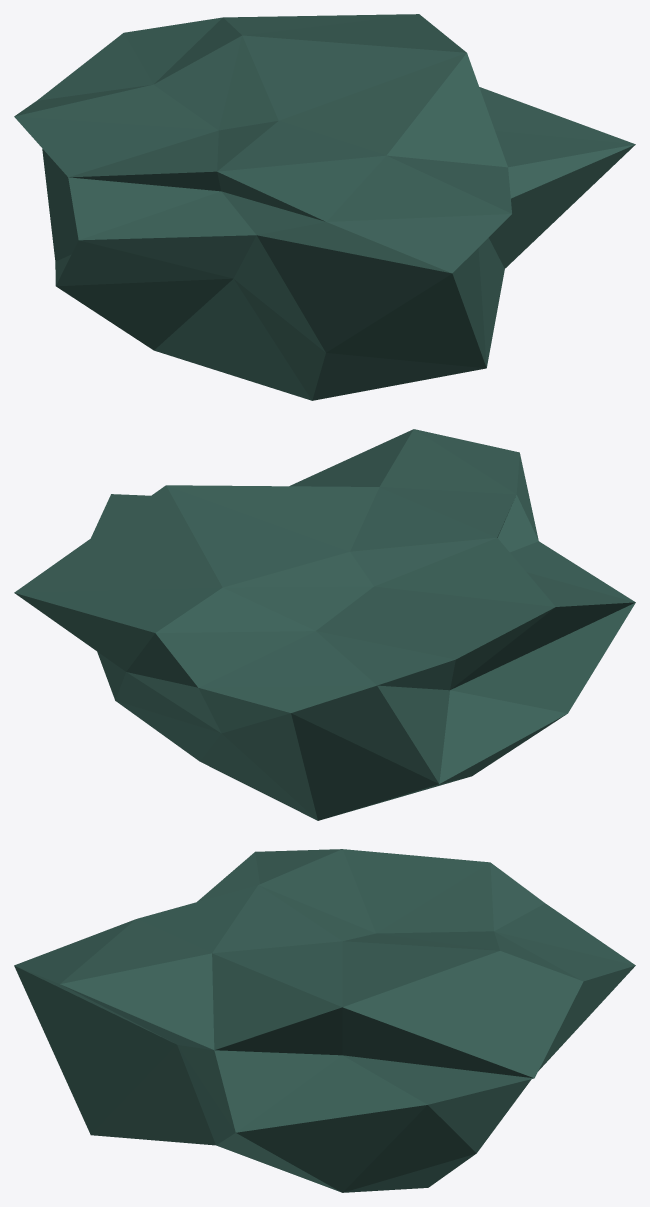
The model's file is Stone_27.fbx.
The picture shows the model from 3 angles, top to bottom: view 1: azimuth 30°, elevation 25°; view 2: azimuth 150°, elevation 25°; view 3: azimuth 270°, elevation 25°; orthographic projection. The views are drawn at different scales.
Parts seen in each view (by area): view 1: Stone 27; view 2: Stone 27; view 3: Stone 27.
Boxes of the visible parts, x1=… form: Stone 27: x1=14, y1=14, x2=635, y2=400; Stone 27: x1=14, y1=429, x2=635, y2=820; Stone 27: x1=14, y1=849, x2=635, y2=1192.
Bounding box in the file's own units: 172 × 70.64 × 179.
